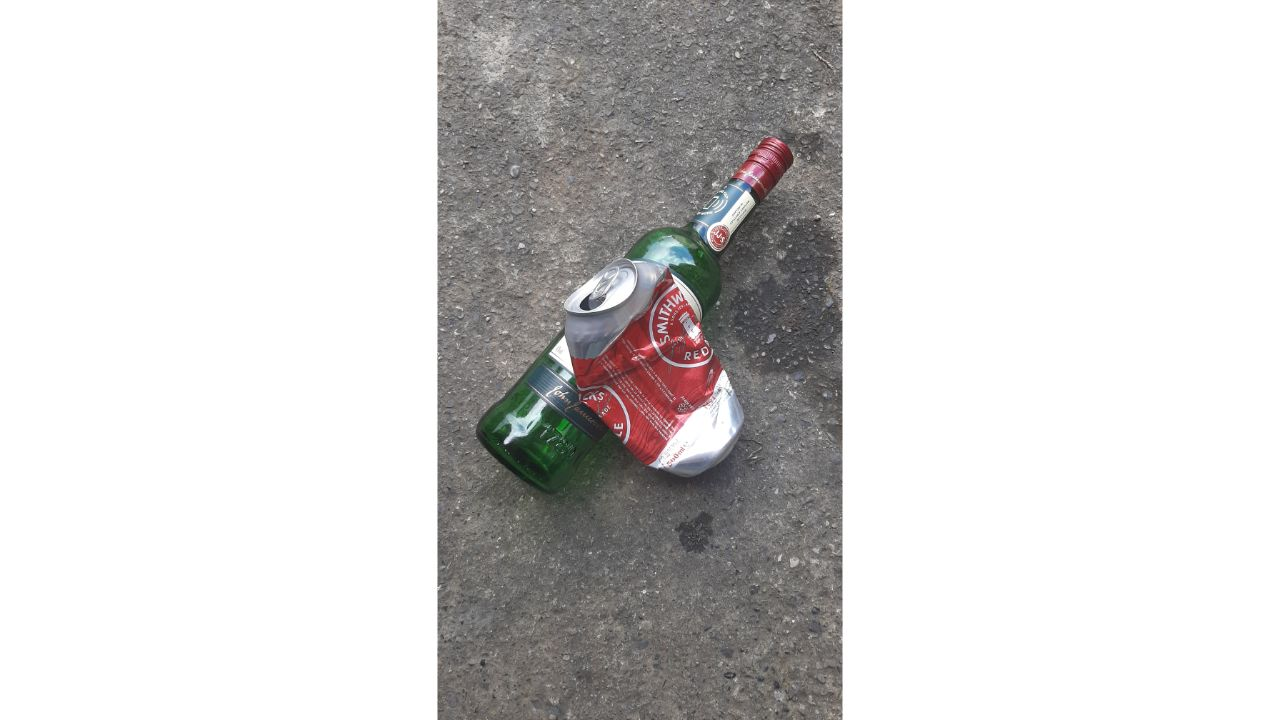Can: (559, 254, 754, 487)
